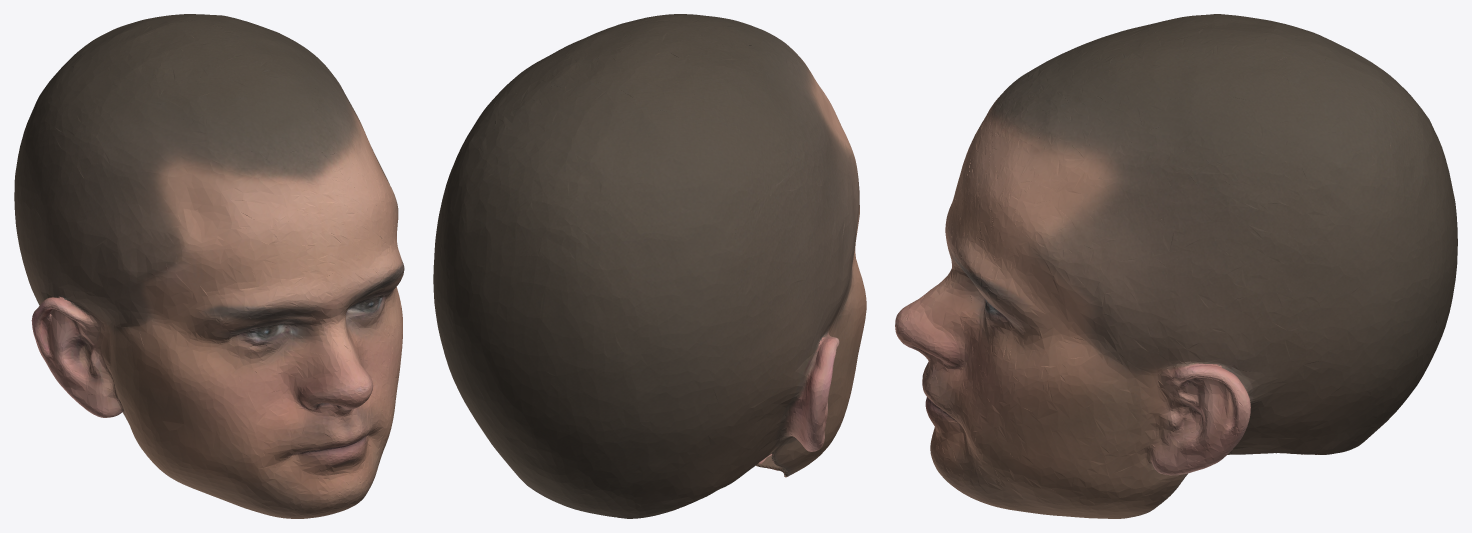
File: head.glb
3 renders of one model, left to right at view 1: azimuth 30°, elevation 25°; view 2: azimuth 150°, elevation 25°; view 3: azimuth 270°, elevation 25°, orthographic. The views are drawn at different scales.
Parts seen in each view (by area): view 1: world; view 2: world; view 3: world.
Part boxes in pixels (bbox=[...]): world: bbox=[14, 14, 404, 518]; world: bbox=[433, 14, 866, 518]; world: bbox=[895, 14, 1457, 518].
Size of the model in its own units: 1.55 by 1.79 by 1.99.
1 material, 1 textured.
